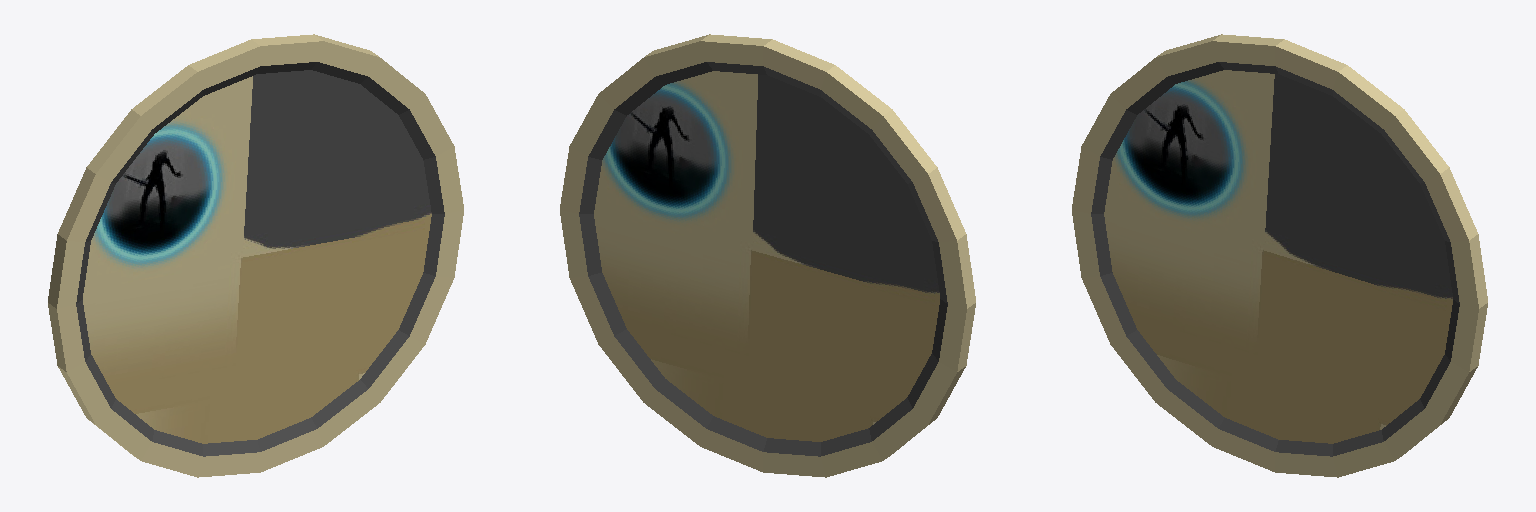
3 renders of one model, left to right at view 1: azimuth 30°, elevation 25°; view 2: azimuth 150°, elevation 25°; view 3: azimuth 330°, elevation 25°, orthographic.
Parts seen in each view (by area): view 1: Background; view 2: Background; view 3: Background.
Part boxes in pixels (x1,y1,x2,y2): Background: (48, 34, 463, 477); Background: (560, 34, 975, 477); Background: (1072, 34, 1487, 477).
Bounding box in the file's own units: 3.22 × 3.22 × 0.1269.
Materials: 1 (1 with a texture image).